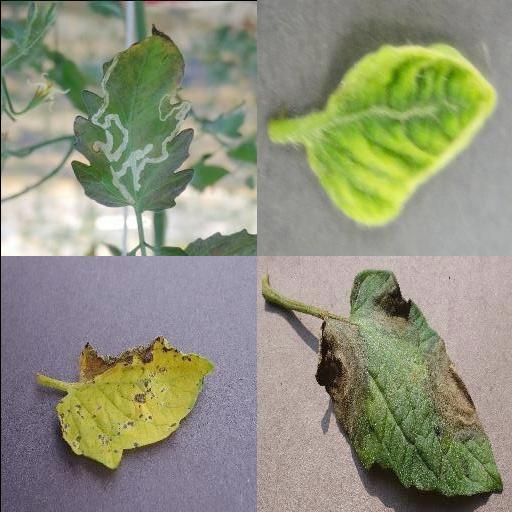Late Blight: (312, 269, 504, 497)
Leaf Miner: (68, 21, 194, 214)
Septoria: (55, 337, 215, 471)
Yellow Leaf Curl Virus: (305, 42, 499, 228)
